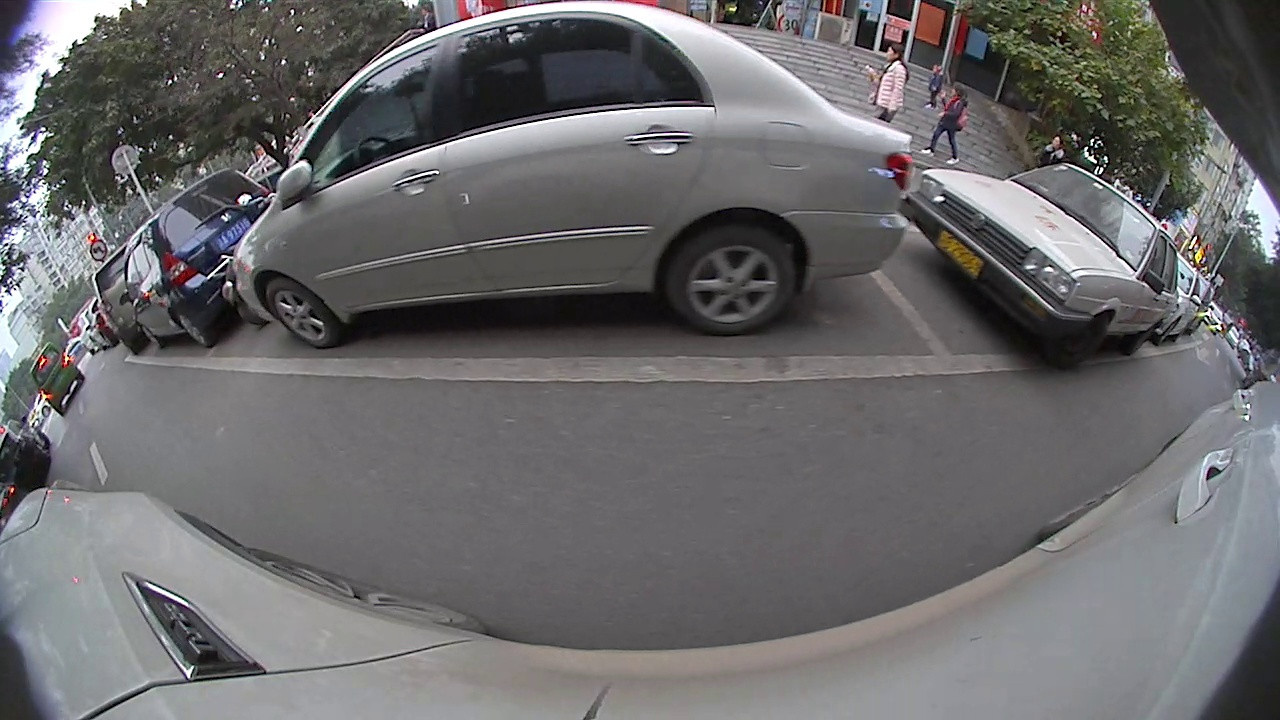car: (229, 4, 919, 353), (904, 159, 1184, 373), (115, 163, 279, 353)
front: (257, 275, 343, 345), (1053, 304, 1116, 371)
person: (878, 38, 915, 127)
rear: (667, 224, 795, 336), (174, 309, 217, 348)
rider: (940, 81, 969, 163)
